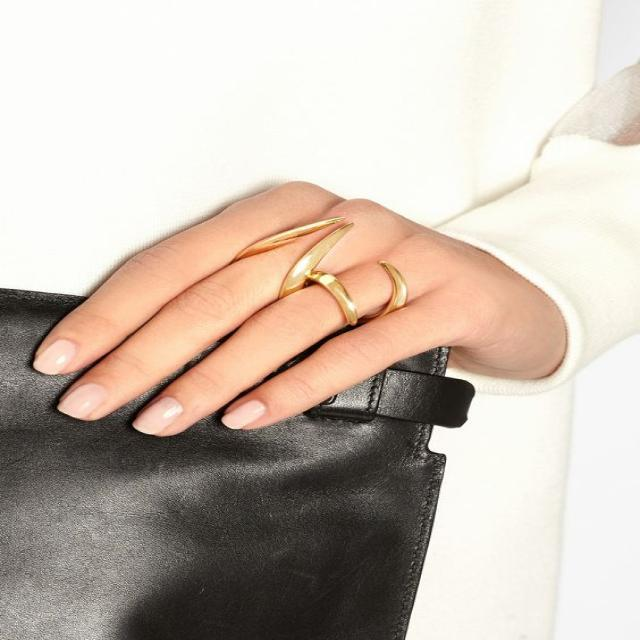Fingernail: (134, 397, 182, 435), (59, 383, 107, 418), (35, 340, 75, 377), (222, 399, 266, 429)
